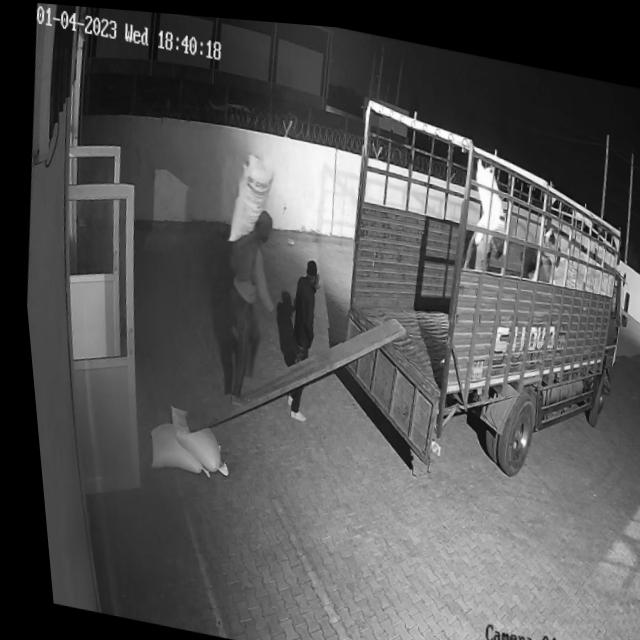sack: (217, 146, 278, 245), (155, 400, 220, 471), (137, 417, 198, 474), (466, 150, 508, 214)
